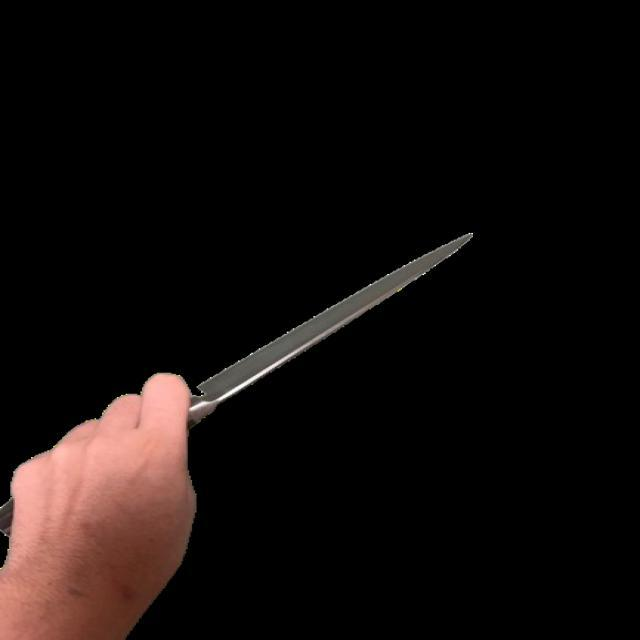knife: (0, 233, 477, 635)
